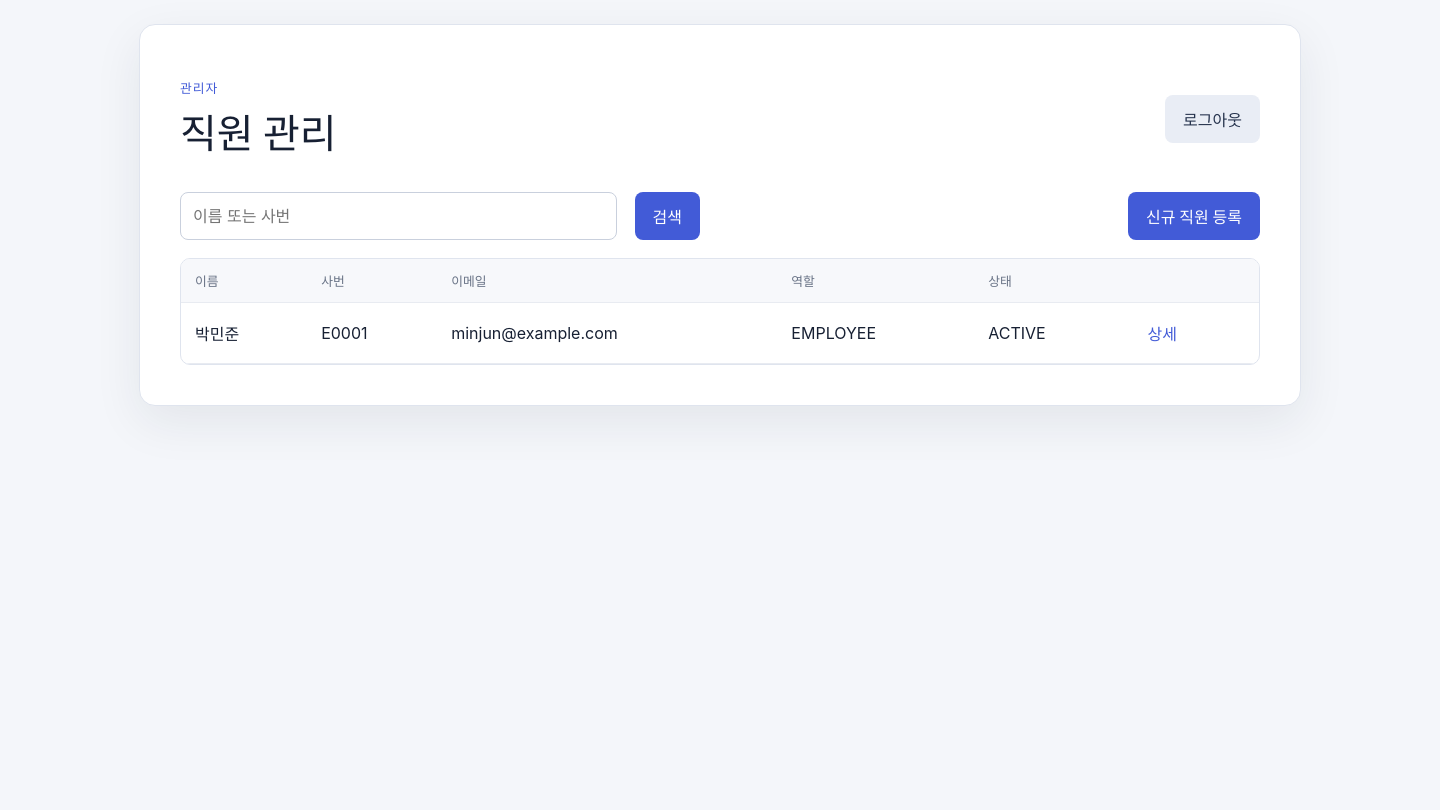
관리자는 직원 목록과 신규 등록 화면을 사용한다
expect the heading "직원 관리" is shown: met, box [180,110,337,158]
expect the text "박민준" is shown: met, box [181,302,307,363]
Click the button "신규 직원 등록" at (1194,216), box [1128,192,1260,240]
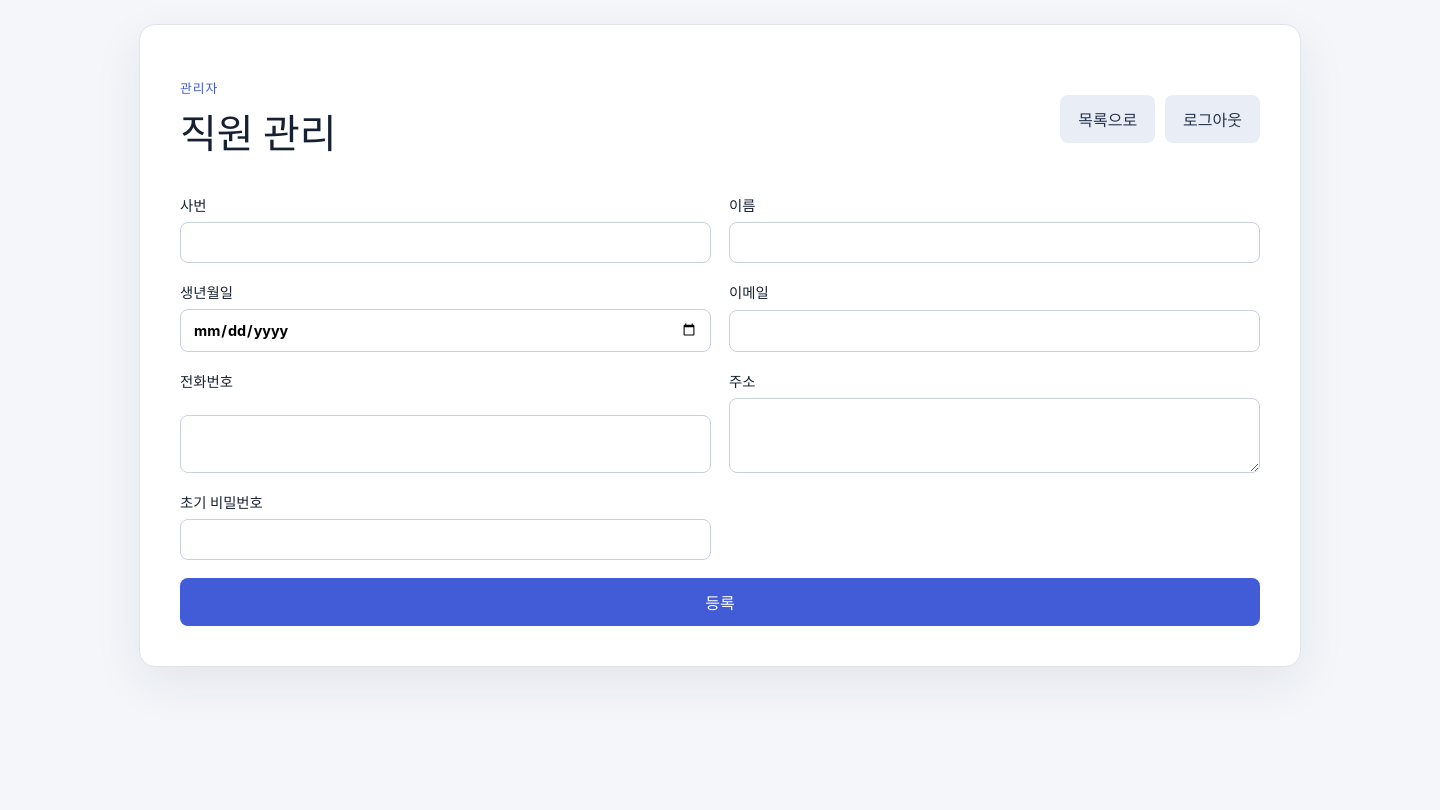
expect the password field labelled "초기 비밀번호" is shown: met, box [180,519,711,560]
expect the column heading labelled "역할" is gone: met
